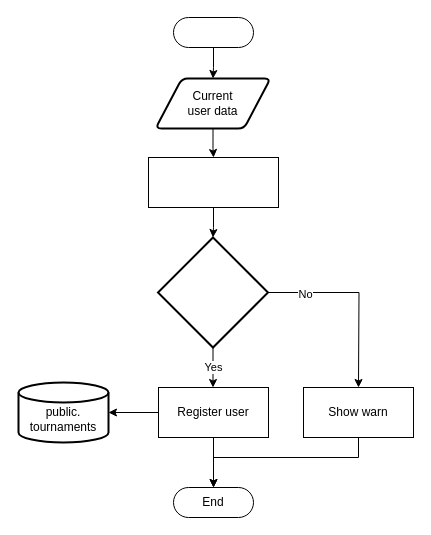
Some shapes in this 431 by 535 pixel diagram are drawn without their labels. Here are the shapes that lost their labels. From the top down, the centre of each, then its label:
pixel 213 32: Start
pixel 213 182: Match restrictions with user data
pixel 212 292: User passes requirements?
